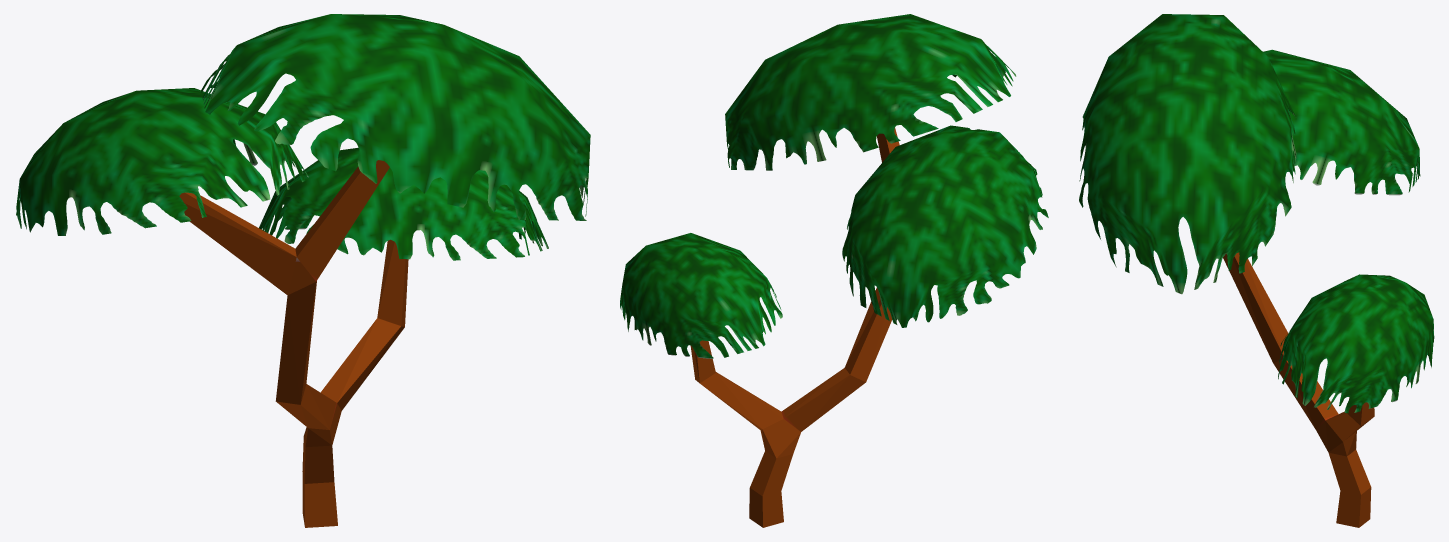
The model's file is SM_Tree_E05.fbx.
3 renders of one model, left to right at view 1: azimuth 30°, elevation 25°; view 2: azimuth 150°, elevation 25°; view 3: azimuth 270°, elevation 25°, orthographic. The views are drawn at different scales.
Visible parts, largest first — view 1: SM_Tree_E05; view 2: SM_Tree_E05; view 3: SM_Tree_E05.
Boxes of the visible parts, x1,y1,x2,y2 form: SM_Tree_E05: (16,14,590,527); SM_Tree_E05: (620,14,1048,527); SM_Tree_E05: (1079,14,1434,527).
Bounding box in the file's own units: 293 × 327 × 230.
